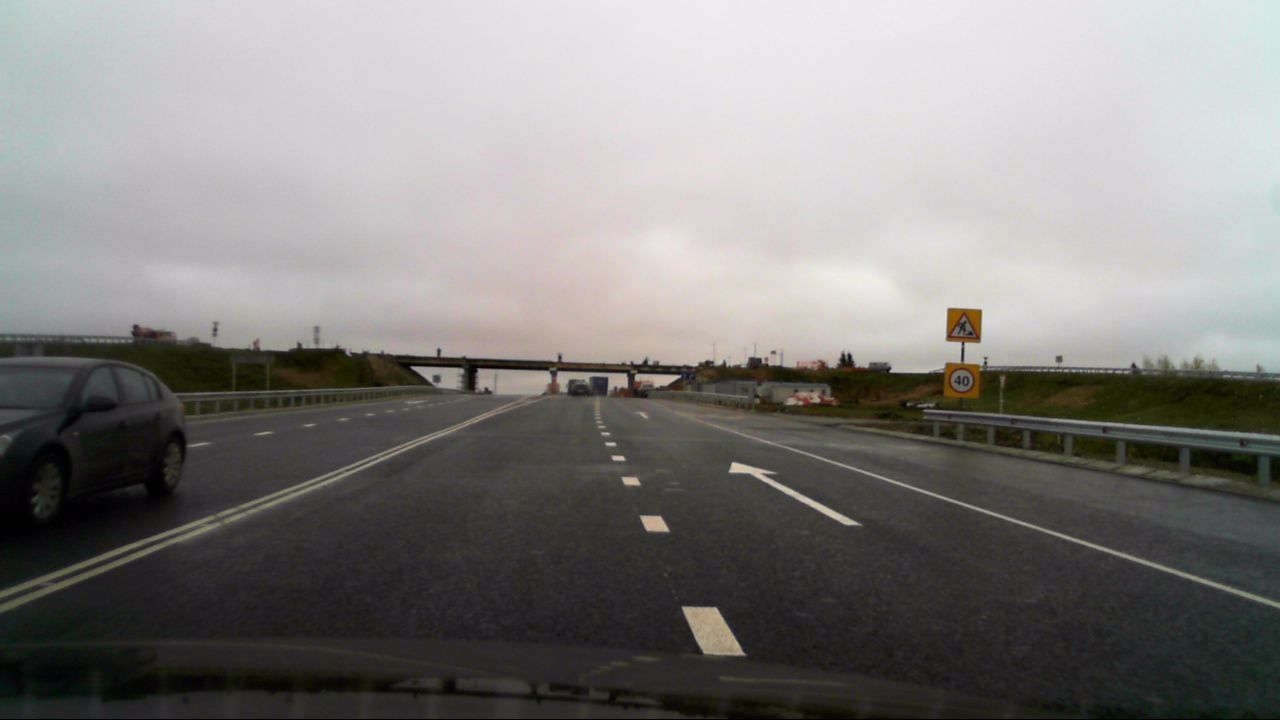speed_warning_40: (945, 362, 978, 398)
